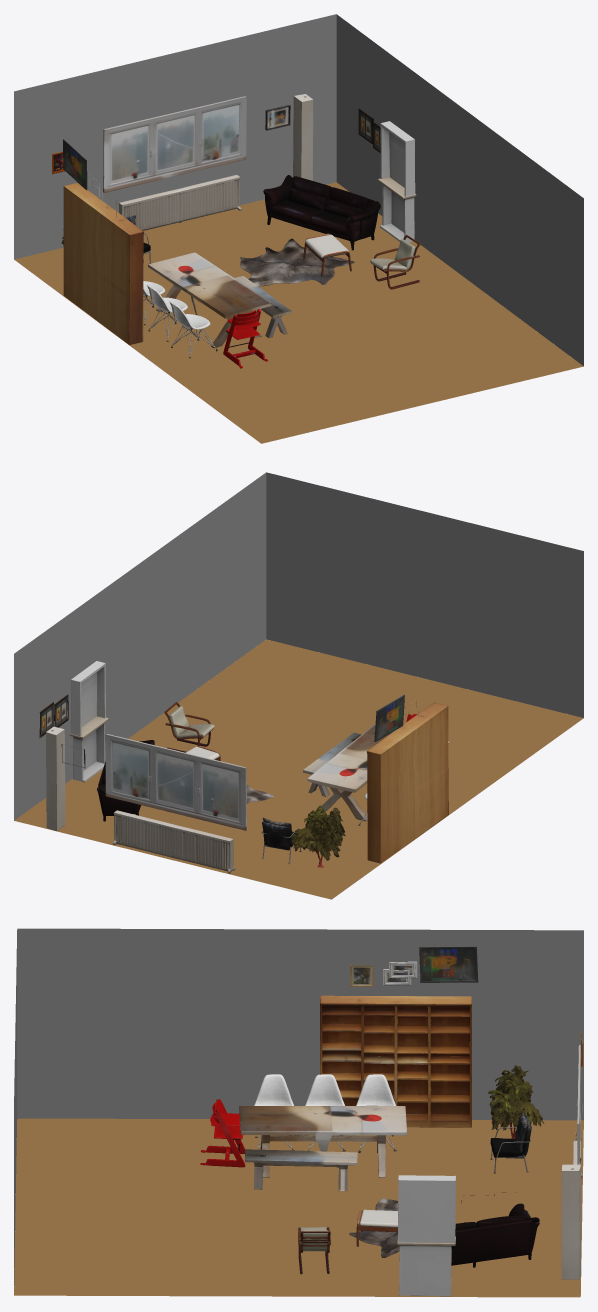
Rendered from coco-340175.glb.
3 renders of one model, top to bottom at view 1: azimuth 30°, elevation 25°; view 2: azimuth 150°, elevation 25°; view 3: azimuth 270°, elevation 25°, orthographic. The views are drawn at different scales.
Visible parts, largest first — view 1: Floor, Wall_04, Wall_01, world.007, world_1.001, world.001, world.013, world.008, world.020, world_1, world.024, world.017 (+6 smaller); view 2: Wall_03, Floor, Wall_04, world.007, world_1.001, world.008, world.020, world.013, world.024, world.004, world.017, world.016 (+3 smaller); view 3: Wall_02, Floor, world.007, world.020, world.013, world.001, world.024, world.004, world, world.016, world.005, world.021 (+7 smaller).
Part boxes in pixels (<box>): Floor: <box>14,182,583,443</box>; Wall_04: <box>336,14,583,366</box>; Wall_01: <box>14,14,336,259</box>; world.007: <box>63,182,143,344</box>; world_1.001: <box>103,96,246,192</box>; world.001: <box>263,175,380,250</box>; world.013: <box>148,252,271,348</box>; world.008: <box>118,174,241,230</box>; world.020: <box>377,121,416,242</box>; world_1: <box>240,238,354,286</box>; world.024: <box>293,94,313,180</box>; world.017: <box>370,235,420,289</box>; Wall_03: <box>266,472,583,717</box>; Floor: <box>14,639,583,899</box>; Wall_04: <box>14,472,266,820</box>; world.007: <box>367,702,448,863</box>; world_1.001: <box>105,734,246,830</box>; world.008: <box>113,810,235,873</box>; world.020: <box>70,661,108,782</box>; world.013: <box>307,724,392,821</box>; world.024: <box>46,726,65,830</box>; world.004: <box>290,805,345,867</box>; world.017: <box>164,702,214,752</box>; world.016: <box>374,694,404,741</box>; Wall_02: <box>17,928,583,1120</box>; Floor: <box>14,1118,583,1297</box>; world.007: <box>320,995,471,1127</box>; world.020: <box>397,1175,456,1296</box>; world.013: <box>239,1105,406,1177</box>; world.001: <box>451,1203,539,1267</box>; world.024: <box>561,1164,580,1279</box>; world.004: <box>488,1065,544,1138</box>; world: <box>245,1149,357,1191</box>; world.016: <box>419,946,478,982</box>; world.005: <box>200,1099,245,1167</box>; world.021: <box>490,1112,531,1173</box>.
Size of the model in its own units: 6.64 by 3.29 by 8.94.
Materials: 29 (23 with a texture image).
